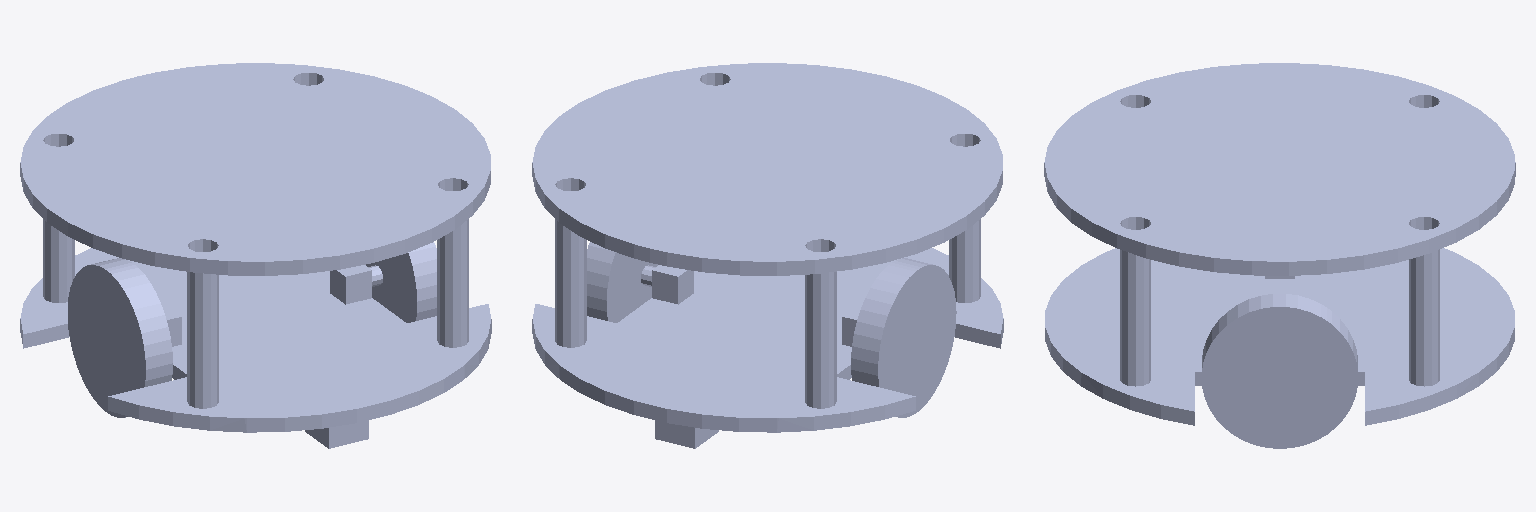
The robot description file, URDF, robot "Mobie_robot_RL":
<?xml version="1.0" encoding="utf-8"?>
<!-- This URDF was automatically created by SolidWorks to URDF Exporter! Originally created by Stephen Brawner (brawner@gmail.com) 
     Commit Version: 1.6.0-4-g7f85cfe  Build Version: 1.6.7995.38578
     For more information, please see http://wiki.ros.org/sw_urdf_exporter -->
<robot
  name="Mobie_robot_RL">
  <link
    name="base_link">
    <inertial>
      <origin
        xyz="-1.3878E-17 -2.2204E-16 0.025842"
        rpy="0 0 0" />
      <mass
        value="0.18185" />
      <inertia
        ixx="0.00030741"
        ixy="2.4867E-20"
        ixz="1.2907E-20"
        iyy="0.00023694"
        iyz="-2.89E-18"
        izz="0.00051456" />
    </inertial>
    <visual>
      <origin
        xyz="0 0 0"
        rpy="0 0 0" />
      <geometry>
        <mesh
          filename="package://Mobie_robot_RL/meshes/base_link.STL" />
      </geometry>
      <material
        name="">
        <color
          rgba="0.79216 0.81961 0.93333 1" />
      </material>
    </visual>
    <collision>
      <origin
        xyz="-1.3878E-17 -2.2204E-16 0.0052"
        rpy="0 0 0" />
      <geometry>
        <cylinder radius="0.04" length="0.05"/>
      </geometry>
    </collision>
  </link>
  <link
    name="letf_wheel_link">
    <inertial>
      <origin
        xyz="0.005 0 0"
        rpy="0 0 0" />
      <mass
        value="0.019635" />
      <inertia
        ixx="6.1359E-06"
        ixy="2.2058E-24"
        ixz="-3.5293E-23"
        iyy="3.2316E-06"
        iyz="-5.7351E-23"
        izz="3.2316E-06" />
    </inertial>
    <visual>
      <origin
        xyz="0 0 0"
        rpy="0 0 0" />
      <geometry>
        <mesh
          filename="package://Mobie_robot_RL/meshes/letf_wheel_link.STL" />
      </geometry>
      <material
        name="">
        <color
          rgba="0.79216 0.81961 0.93333 1" />
      </material>
    </visual>
    <collision>
      <origin
        xyz="0 0 0"
        rpy="0 1.57 0" />
      <geometry>
          <cylinder radius="0.025" length="0.015"/>
      </geometry>
    </collision>
  </link>
  <joint
    name="Revolute1"
    type="continuous">
    <origin
      xyz="-0.054902 0 0.0049"
      rpy="0 0 0" />
    <parent
      link="base_link" />
    <child
      link="letf_wheel_link" />
    <axis
      xyz="-1 0 0" />
  </joint>
  <link
    name="right_wheel_link">
    <inertial>
      <origin
        xyz="-0.005 0 1.3878E-17"
        rpy="0 0 0" />
      <mass
        value="0.019635" />
      <inertia
        ixx="6.1359E-06"
        ixy="1.7647E-23"
        ixz="7.0586E-23"
        iyy="3.2316E-06"
        iyz="4.8307E-22"
        izz="3.2316E-06" />
    </inertial>
    <visual>
      <origin
        xyz="0 0 0"
        rpy="0 0 0" />
      <geometry>
        <mesh
          filename="package://Mobie_robot_RL/meshes/right_wheel_link.STL" />
      </geometry>
      <material
        name="">
        <color
          rgba="0.79216 0.81961 0.93333 1" />
      </material>
    </visual>
    <collision>
      <origin
        xyz="0 0 0"
        rpy="0 1.57 0" />
      <geometry>
          <cylinder radius="0.025" length="0.015"/>
      </geometry>
    </collision>
  </link>
  <joint
    name="Revolute2"
    type="continuous">
    <origin
      xyz="0.054902 0 0.0049"
      rpy="0 0 0" />
    <parent
      link="base_link" />
    <child
      link="right_wheel_link" />
    <axis
      xyz="-1 0 0" />
  </joint>
</robot>

--- Render facts (derived) ---
3 views of the same robot in one strip: view 1: azimuth 30°, elevation 25°; view 2: azimuth 150°, elevation 25°; view 3: azimuth 270°, elevation 25° (orthographic).
Robot: Mobie_robot_RL — 3 links, 2 joints (2 continuous); root link base_link; default pose: all joints at 0.
Visible links, largest first — view 1: base_link, letf_wheel_link, right_wheel_link; view 2: base_link, letf_wheel_link, right_wheel_link; view 3: base_link, right_wheel_link.
Link boxes in pixels (x1=…): base_link: x1=20, y1=63, x2=491, y2=448; letf_wheel_link: x1=68, y1=258, x2=172, y2=417; right_wheel_link: x1=366, y1=242, x2=436, y2=322; base_link: x1=532, y1=63, x2=1003, y2=448; letf_wheel_link: x1=851, y1=258, x2=956, y2=417; right_wheel_link: x1=587, y1=242, x2=657, y2=322; base_link: x1=1044, y1=63, x2=1515, y2=425; right_wheel_link: x1=1202, y1=294, x2=1357, y2=448.
Bounding box of the posed robot: 0.1499 × 0.15 × 0.0751 m (x, y, z).
Meshes: 3 distinct files referenced, 3 mesh visuals loaded (3 binary STL).
